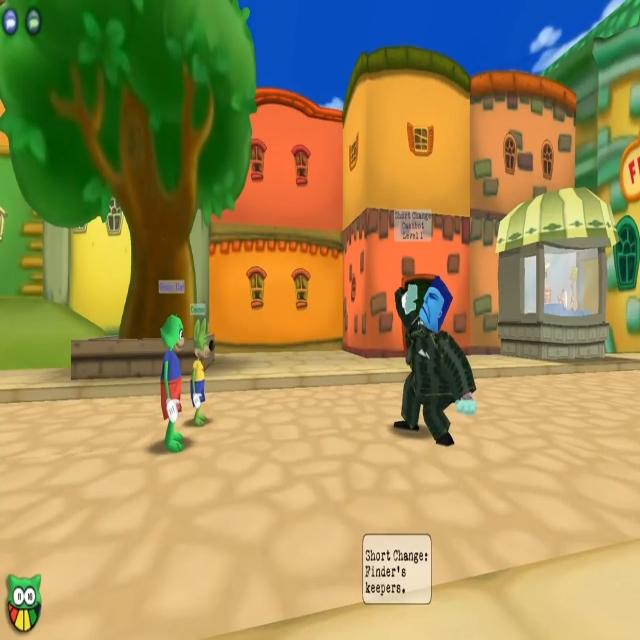shortchange: (398, 280, 476, 446)
